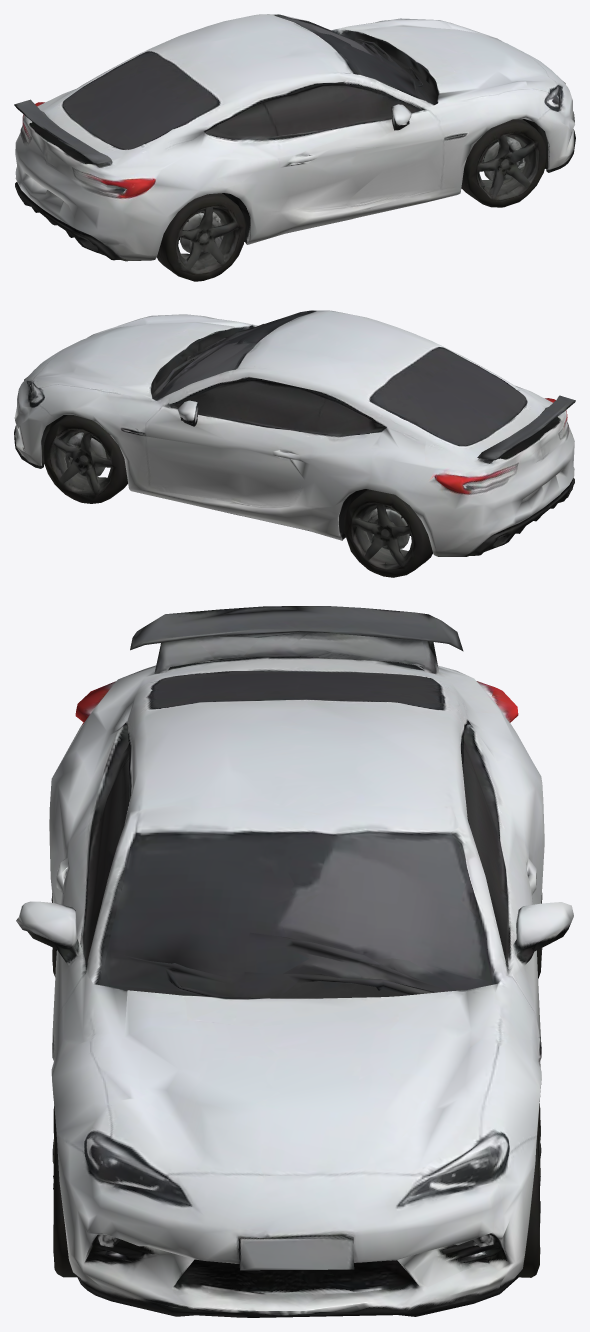
File: car_sports.glb
3 views of the same model, one above another, from view 1: azimuth 30°, elevation 25°; view 2: azimuth 150°, elevation 25°; view 3: azimuth 270°, elevation 25° (orthographic). The views are drawn at different scales.
Parts seen in each view (by area): view 1: tripo_node_1b98713b-ff64-485f-8c71-208c75729b88; view 2: tripo_node_1b98713b-ff64-485f-8c71-208c75729b88; view 3: tripo_node_1b98713b-ff64-485f-8c71-208c75729b88.
Boxes of the visible parts, x1,y1,x2,y2 form: tripo_node_1b98713b-ff64-485f-8c71-208c75729b88: [14, 14, 575, 281]; tripo_node_1b98713b-ff64-485f-8c71-208c75729b88: [14, 310, 575, 577]; tripo_node_1b98713b-ff64-485f-8c71-208c75729b88: [16, 606, 573, 1317].
Bounding box in the file's own units: 0.9995 × 0.3086 × 0.4734.
Materials: 1 (1 with a texture image).
